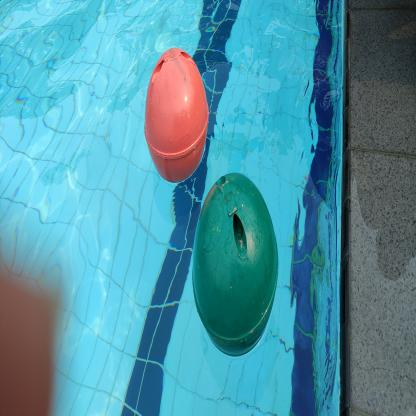green_buoy: (192, 172, 280, 359)
red_buoy: (142, 48, 210, 184)
